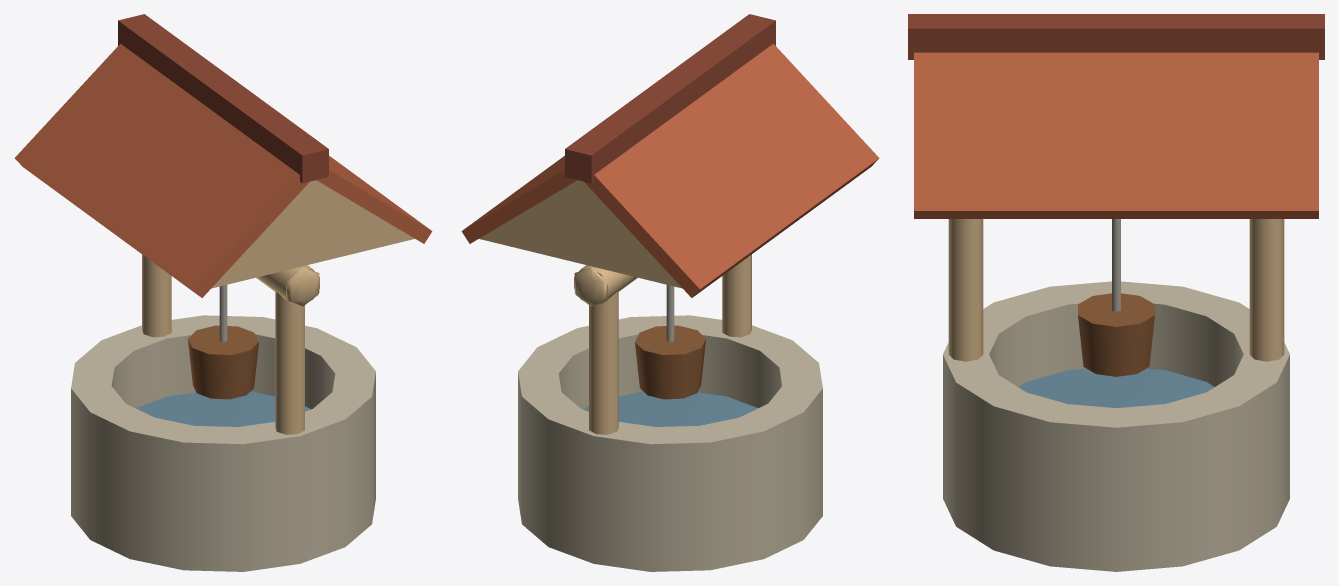
Rendered from round_well.fbx.
The picture shows the model from 3 angles, left to right: view 1: azimuth 30°, elevation 25°; view 2: azimuth 150°, elevation 25°; view 3: azimuth 270°, elevation 25°; orthographic projection. The views are drawn at different scales.
Visible parts, largest first — view 1: round_well; view 2: round_well; view 3: round_well.
Part boxes in pixels (left/top/right/bottom): round_well: left=14, top=14, right=432, bottom=571; round_well: left=461, top=14, right=879, bottom=571; round_well: left=908, top=14, right=1324, bottom=571.
Bounding box in the file's own units: 0.12 × 0.182 × 0.144.
